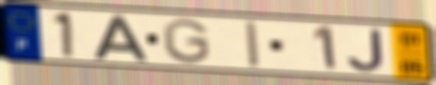1: (310, 25, 338, 73), (50, 11, 77, 60)
A: (92, 13, 151, 63)
G: (159, 17, 213, 65)
I: (243, 19, 264, 70)
J: (344, 27, 387, 74)
